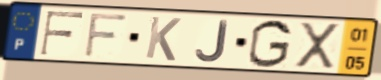F: (37, 9, 87, 57), (82, 11, 131, 59)
G: (246, 18, 294, 70)
J: (193, 18, 230, 64)
K: (143, 14, 183, 63)
X: (294, 20, 341, 70)
